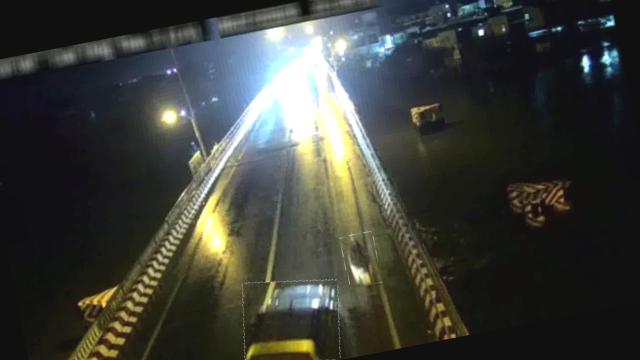Bike: (341, 230, 384, 289)
Car: (234, 269, 349, 360)
